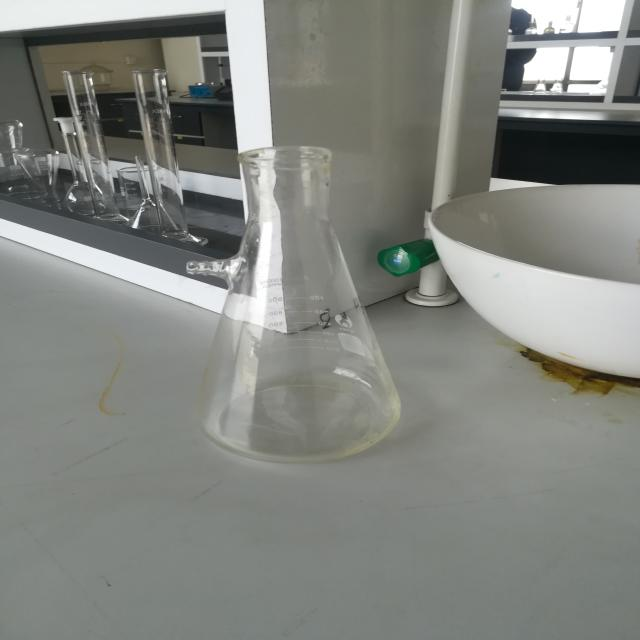Conical_Flask: (149, 134, 437, 488)
